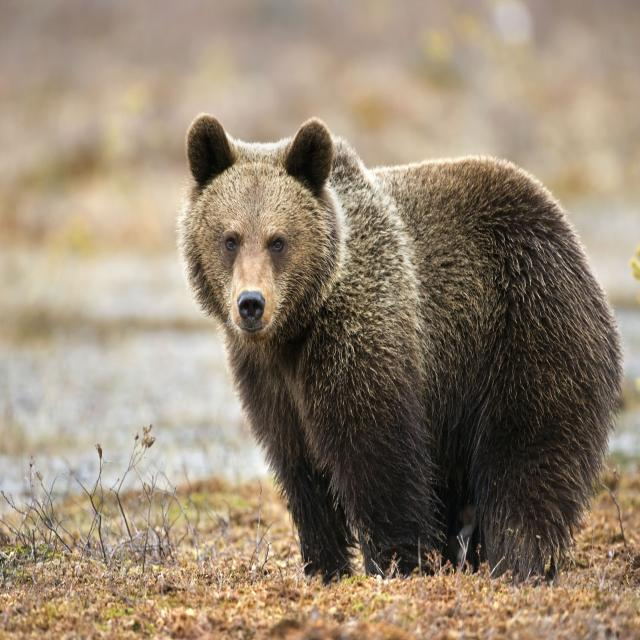bear: (155, 72, 634, 586)
